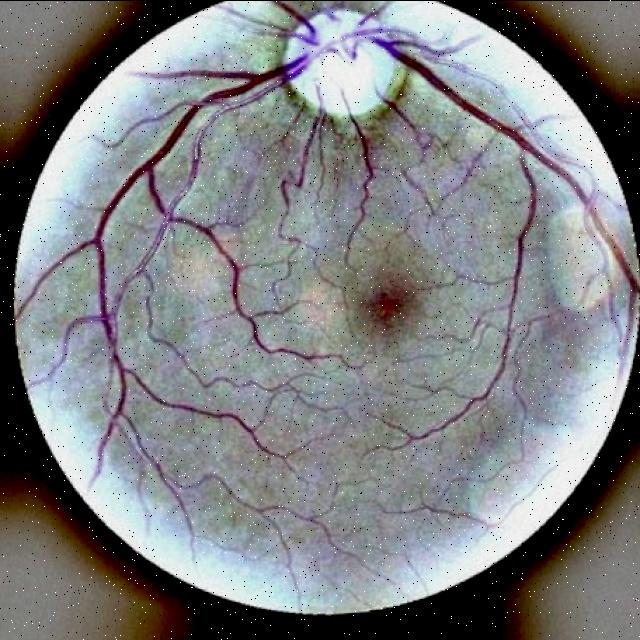Macula: (330, 267, 438, 343)
Nerves: (66, 28, 361, 450), (362, 22, 635, 446), (191, 204, 316, 372), (179, 391, 317, 474)
Optic Disk: (259, 0, 426, 148)
